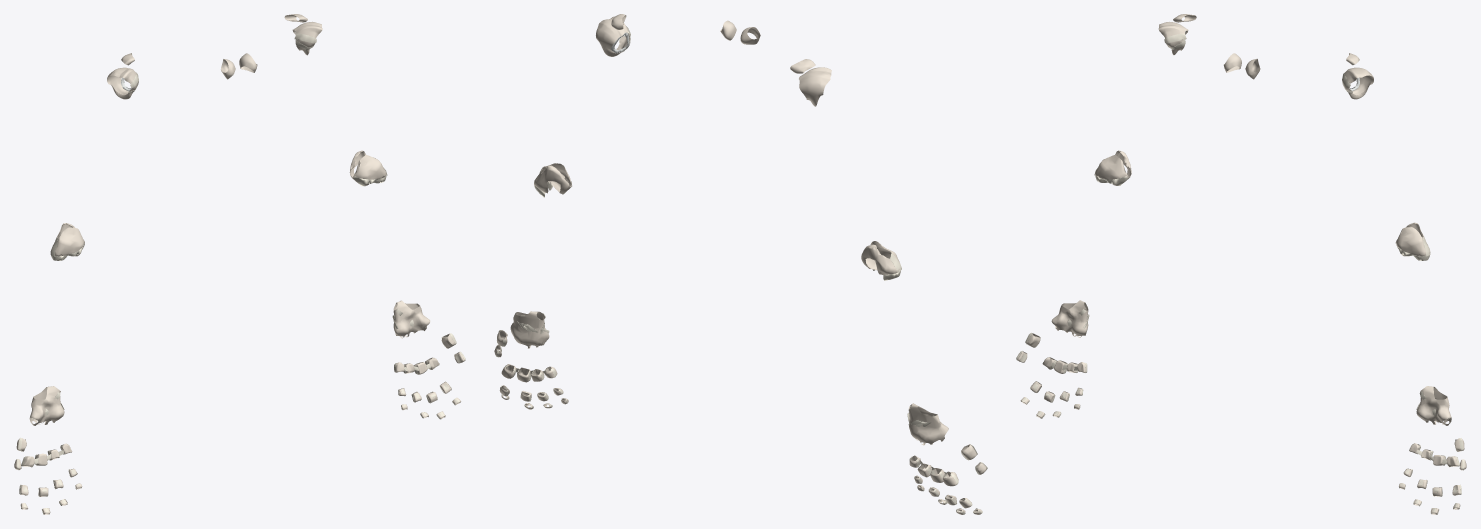
Rendered from zanatomy-joints-upper.glb.
3 views of the same model, side by side, from view 1: azimuth 30°, elevation 25°; view 2: azimuth 150°, elevation 25°; view 3: azimuth 330°, elevation 25° (orthographic). The views are drawn at different scales.
Parts seen in each view (by area): view 1: zj_radiocarpal_joint_capsule_r_1, zj_radiocarpal_joint_capsule_l_1, zj_elbow_joint_capsule_l_1, zj_elbow_joint_capsule_r_1, zj_glenohumeral_joint_capsule_r_1, zj_metacarpophalangeal_joint_capsules_l_1, zj_metacarpophalangeal_joint_capsules_r_1; view 2: zj_radiocarpal_joint_capsule_r_1, zj_radiocarpal_joint_capsule_l_1, zj_glenohumeral_joint_capsule_r_1, zj_elbow_joint_capsule_r_1, zj_glenohumeral_joint_capsule_l_1, zj_elbow_joint_capsule_l_1, zj_metacarpophalangeal_joint_capsules_r_1, zj_metacarpophalangeal_joint_capsules_l_1; view 3: zj_radiocarpal_joint_capsule_l_1, zj_radiocarpal_joint_capsule_r_1, zj_elbow_joint_capsule_r_1, zj_elbow_joint_capsule_l_1, zj_glenohumeral_joint_capsule_l_1, zj_metacarpophalangeal_joint_capsules_r_1.
Part boxes in pixels (x1=…): zj_radiocarpal_joint_capsule_r_1: x1=29, y1=386, x2=64, y2=425; zj_radiocarpal_joint_capsule_l_1: x1=393, y1=300, x2=429, y2=338; zj_elbow_joint_capsule_l_1: x1=349, y1=150, x2=386, y2=185; zj_elbow_joint_capsule_r_1: x1=51, y1=223, x2=84, y2=256; zj_glenohumeral_joint_capsule_r_1: x1=107, y1=67, x2=138, y2=99; zj_metacarpophalangeal_joint_capsules_l_1: x1=394, y1=333, x2=455, y2=374; zj_metacarpophalangeal_joint_capsules_r_1: x1=16, y1=438, x2=72, y2=467; zj_radiocarpal_joint_capsule_r_1: x1=908, y1=403, x2=948, y2=445; zj_radiocarpal_joint_capsule_l_1: x1=510, y1=311, x2=549, y2=348; zj_glenohumeral_joint_capsule_r_1: x1=799, y1=67, x2=831, y2=106; zj_elbow_joint_capsule_r_1: x1=861, y1=241, x2=899, y2=274; zj_glenohumeral_joint_capsule_l_1: x1=596, y1=16, x2=629, y2=56; zj_elbow_joint_capsule_l_1: x1=534, y1=163, x2=571, y2=193; zj_metacarpophalangeal_joint_capsules_r_1: x1=909, y1=444, x2=976, y2=486; zj_metacarpophalangeal_joint_capsules_l_1: x1=497, y1=330, x2=557, y2=382; zj_radiocarpal_joint_capsule_l_1: x1=1416, y1=386, x2=1451, y2=425; zj_radiocarpal_joint_capsule_r_1: x1=1052, y1=300, x2=1088, y2=337; zj_elbow_joint_capsule_r_1: x1=1095, y1=150, x2=1131, y2=185; zj_elbow_joint_capsule_l_1: x1=1396, y1=222, x2=1430, y2=256; zj_glenohumeral_joint_capsule_l_1: x1=1342, y1=67, x2=1373, y2=99; zj_metacarpophalangeal_joint_capsules_r_1: x1=1027, y1=333, x2=1085, y2=373.
Bounding box in the file's own units: 0.8449 × 0.7359 × 0.122.
